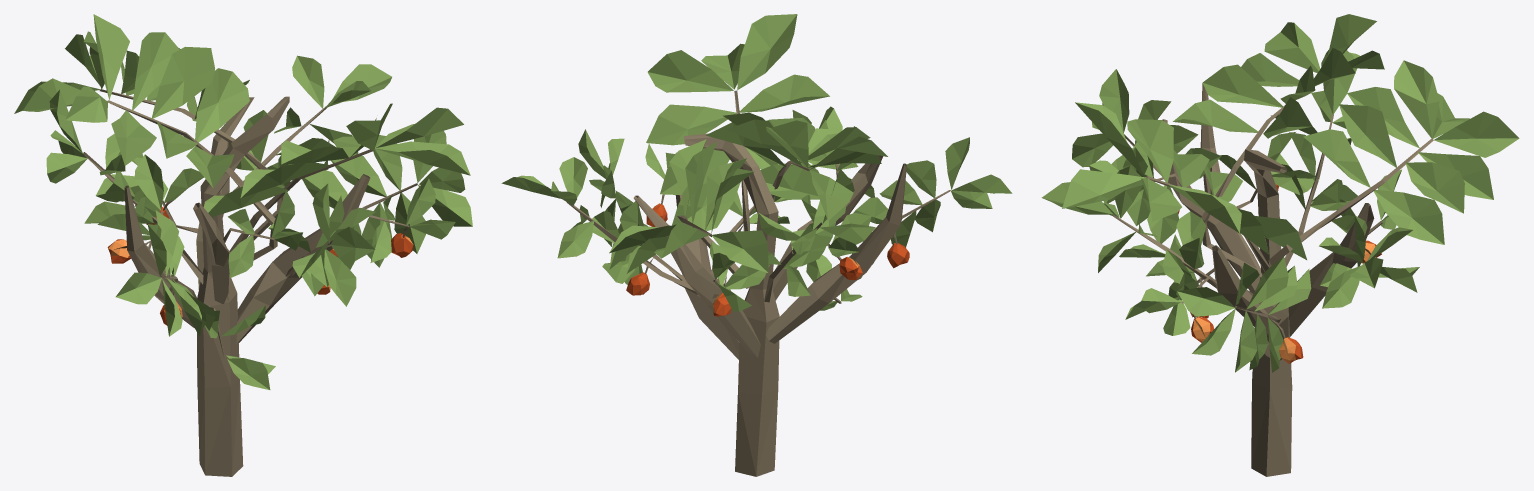
Rendered from Peach_4_1.fbx.
3 views of the same model, side by side, from view 1: azimuth 30°, elevation 25°; view 2: azimuth 150°, elevation 25°; view 3: azimuth 270°, elevation 25° (orthographic). The views are drawn at different scales.
Visible parts, largest first — view 1: Peach_4_1; view 2: Peach_4_1; view 3: Peach_4_1.
Boxes of the visible parts, x1,y1,x2,y2 form: Peach_4_1: (14,14,472,476); Peach_4_1: (501,14,1012,476); Peach_4_1: (1041,14,1519,476).
Size of the model in its own units: 419 by 414 by 433.
